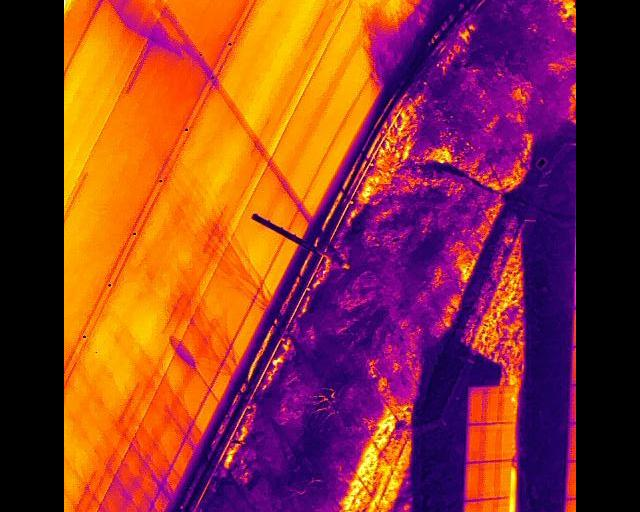Cell: (502, 387, 514, 422), (481, 498, 497, 512), (496, 495, 509, 512)
No-Anomaly: (467, 422, 486, 462), (469, 387, 487, 423), (482, 460, 499, 498), (464, 462, 481, 499), (485, 421, 501, 460), (486, 385, 502, 422), (500, 423, 514, 459), (498, 460, 511, 497), (463, 499, 481, 512)
